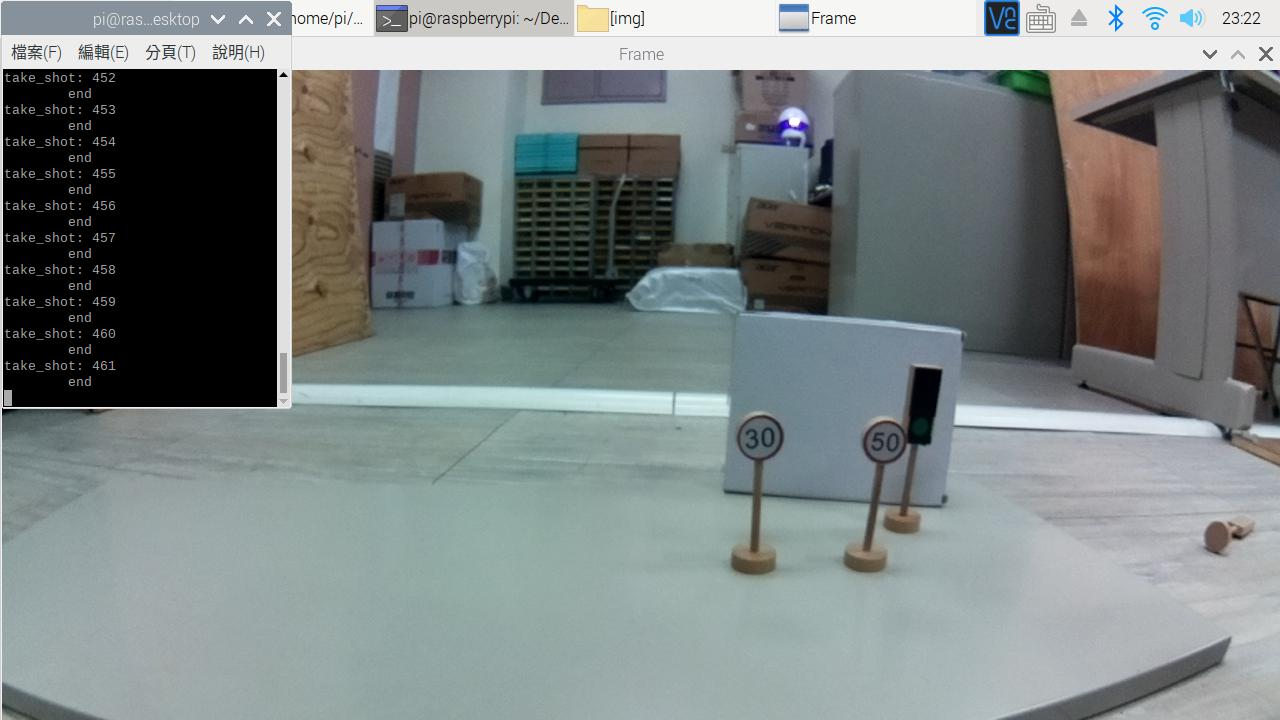Green: (898, 359, 950, 452)
Speed30: (730, 401, 790, 466)
Speed50: (859, 417, 908, 467)
